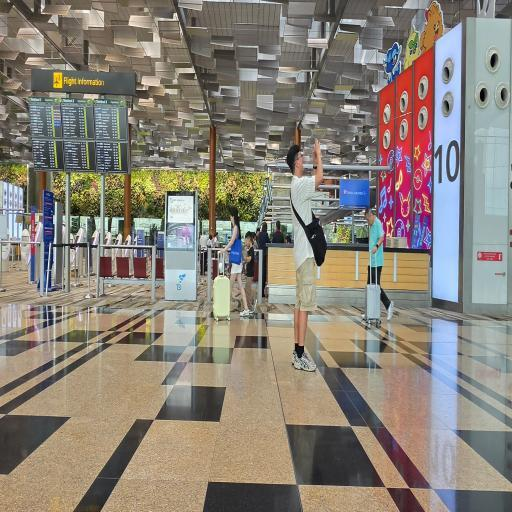person_left: (242, 230, 258, 312)
person_right: (272, 124, 322, 378)
person_with_luggage_left: (360, 203, 398, 332), (214, 212, 247, 324)
